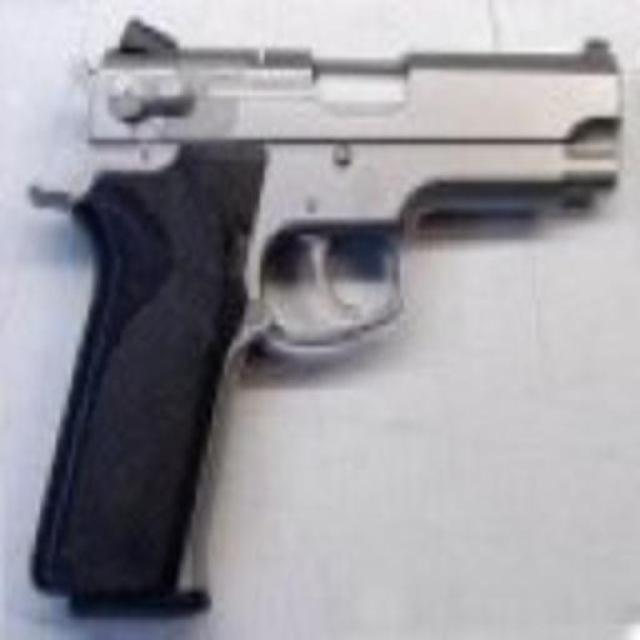pistol: (15, 15, 627, 617)
